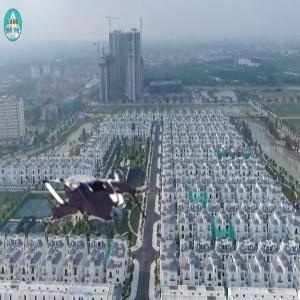drone: (29, 136, 156, 263)
